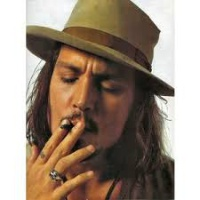ring: (51, 136, 92, 180)
